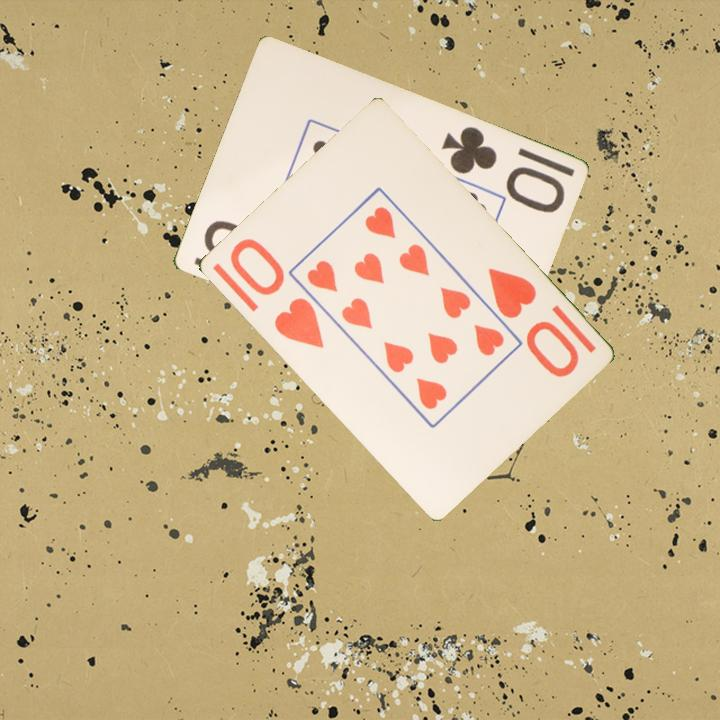10c: (437, 122, 567, 214)
10h: (225, 234, 327, 352), (484, 263, 582, 380)
